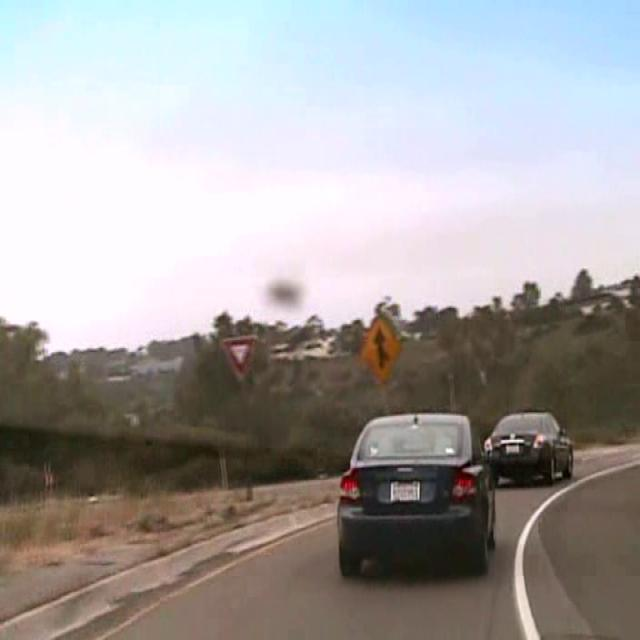yield: (221, 332, 258, 381)
